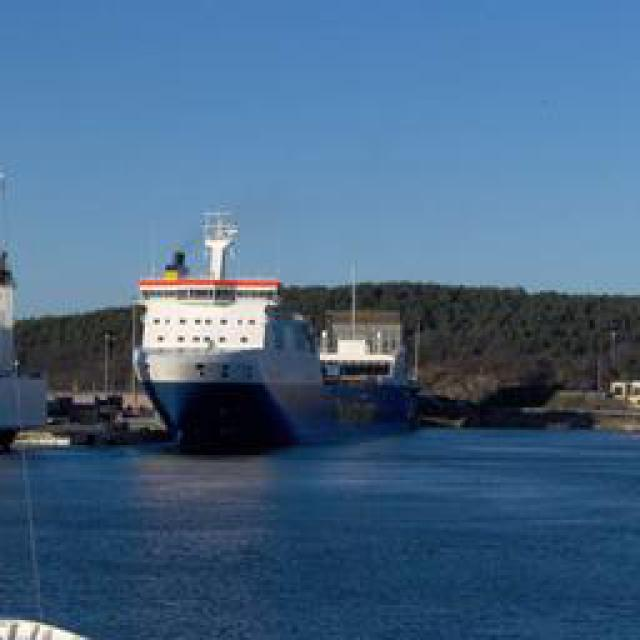Ship: (131, 213, 386, 451)
